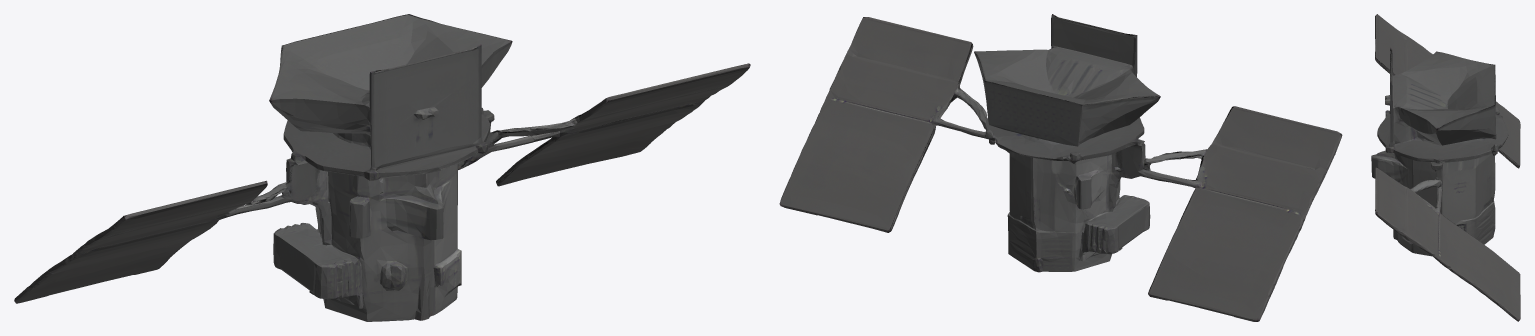
The model's file is trellis_sat_130.glb.
3 views of the same model, side by side, from view 1: azimuth 30°, elevation 25°; view 2: azimuth 150°, elevation 25°; view 3: azimuth 270°, elevation 25° (orthographic). The views are drawn at different scales.
Visible parts, largest first — view 1: world; view 2: world; view 3: world.
Boxes of the visible parts, x1,y1,x2,y2 form: world: [14, 14, 750, 321]; world: [779, 14, 1342, 321]; world: [1371, 14, 1520, 321].
Bounding box in the file's own units: 1 × 0.4119 × 0.3166.
1 material, 1 textured.
